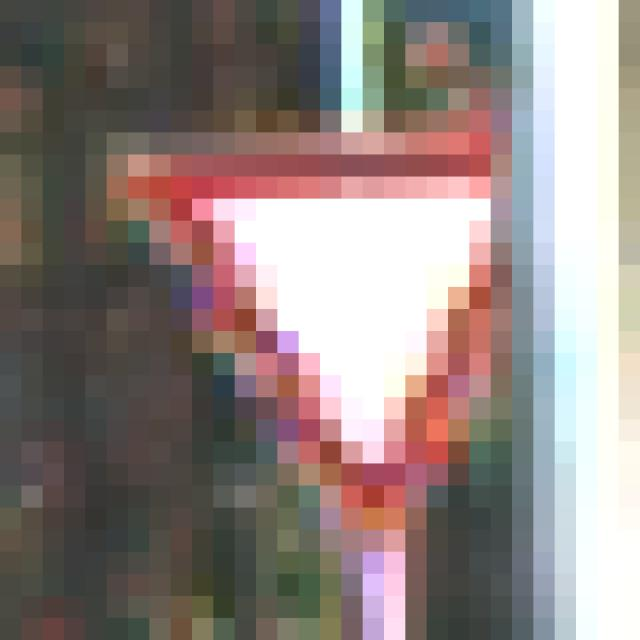Give Way: (108, 111, 534, 531)
